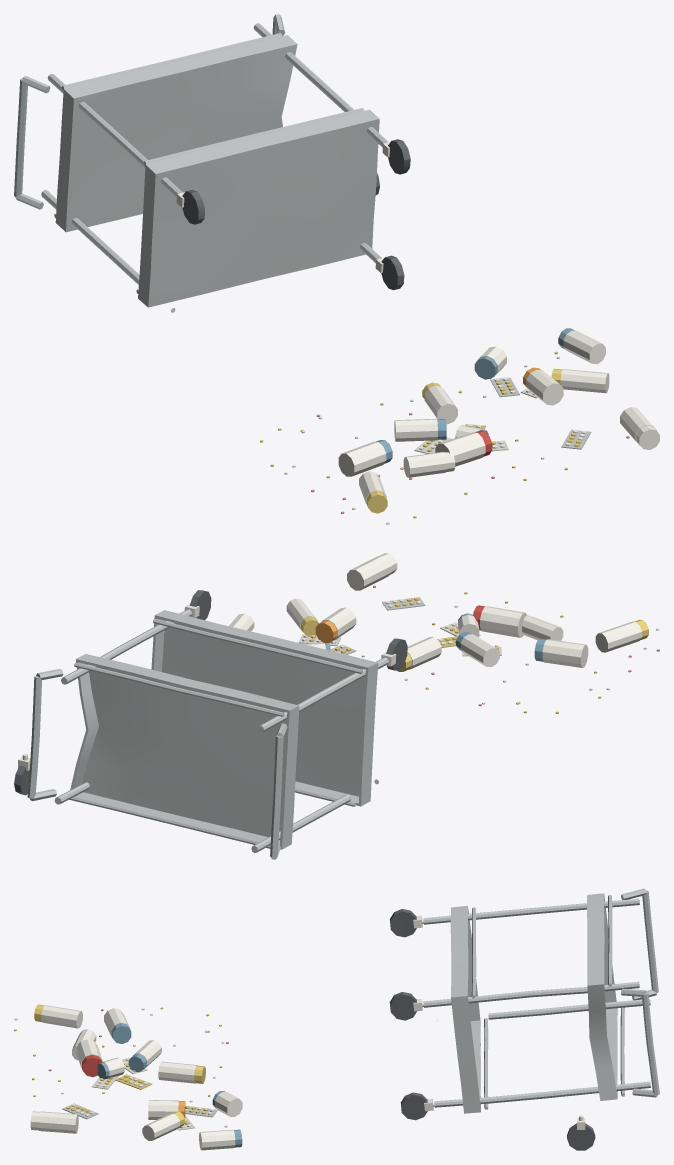
The model's file is med_cart_broken.fbx.
The picture shows the model from 3 angles, top to bottom: view 1: azimuth 30°, elevation 25°; view 2: azimuth 150°, elevation 25°; view 3: azimuth 270°, elevation 25°; orthographic projection. The views are drawn at different scales.
Visible parts, largest first — view 1: med_cart_broken, med_cart_broken_debris; view 2: med_cart_broken, med_cart_broken_debris; view 3: med_cart_broken, med_cart_broken_debris.
Boxes of the visible parts, <box> form: med_cart_broken: <box>14,14,410,312</box>; med_cart_broken_debris: <box>260,173,659,524</box>; med_cart_broken: <box>27,590,407,859</box>; med_cart_broken_debris: <box>14,553,659,795</box>; med_cart_broken: <box>389,888,659,1120</box>; med_cart_broken_debris: <box>14,1004,595,1150</box>.
Size of the model in its own units: 120 by 53.79 by 226.
